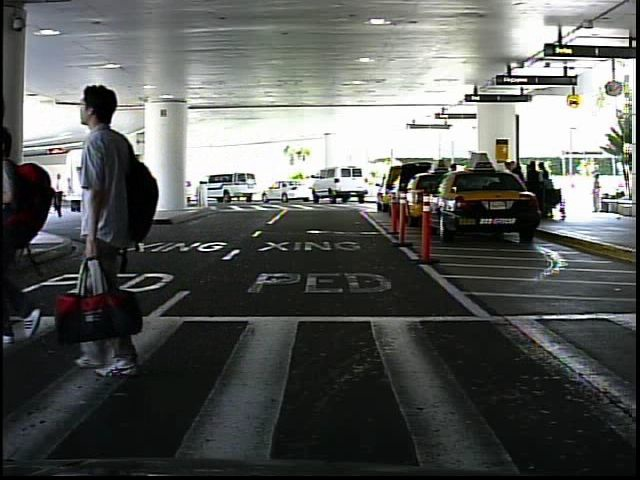person: (69, 68, 173, 384), (51, 171, 70, 221), (588, 170, 607, 215)
